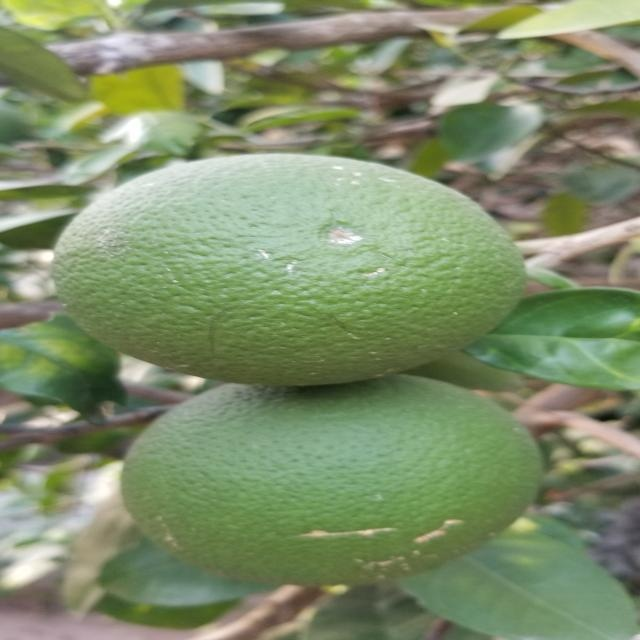agrume: (45, 149, 548, 394), (114, 378, 539, 584)
